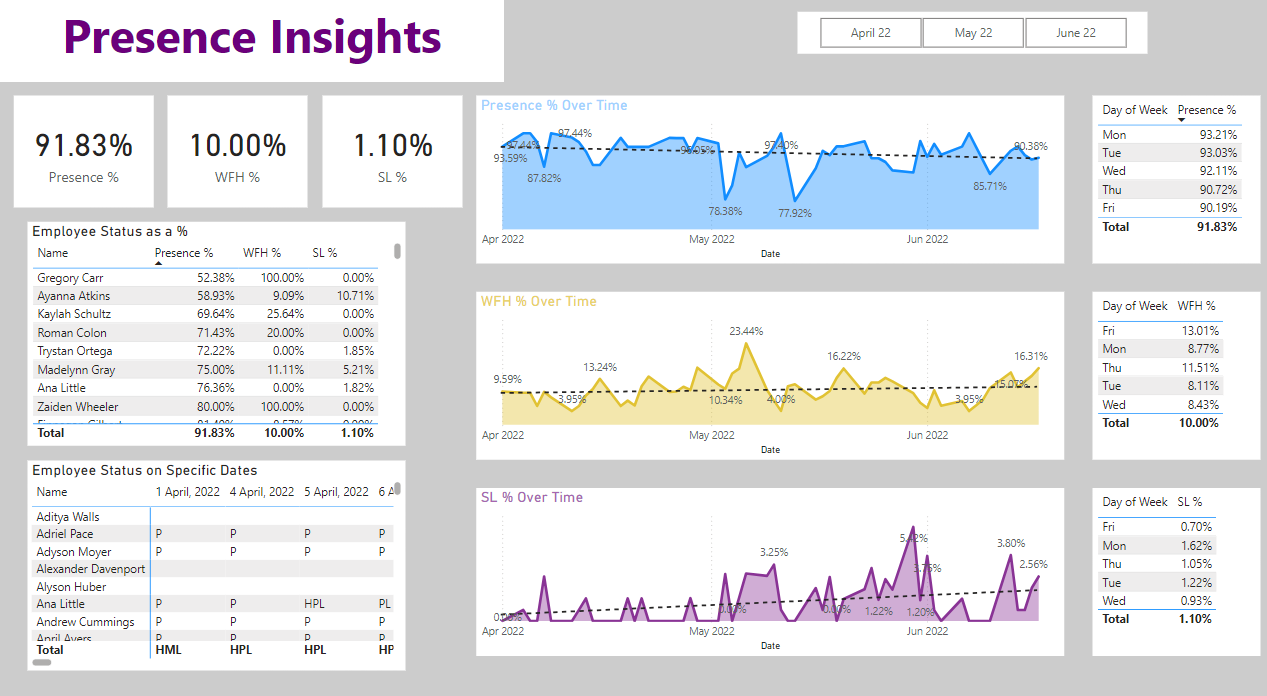

Layout of this report page (visuals, bound fields, positions):
{"tool":"powerbi","page":{"name":"Page 1","canvas":[1280,720],"ordinal":0},"visuals":[{"type":"card","fields":{"Values":["Measure Table.SL %"]},"box":[320,96,160,128],"z":0},{"type":"card","fields":{"Values":["Measure Table.Presence %"]},"box":[0,96,160,128],"z":1000},{"type":"card","fields":{"Values":["Measure Table.WFH %"]},"box":[160,96,160,128],"z":2000},{"type":"slicer","fields":{"Values":["Final Data.Month"]},"box":[784,0,384,64],"z":3000},{"type":"actionButton","box":[0,0,100,40],"z":4000},{"type":"textbox","box":[0,0,528,96],"z":5000},{"type":"tableEx","title":"Employee Status as a %","fields":{"Values":["Final Data.Name","Measure Table.Presence %","Measure Table.WFH %","Measure Table.SL %"]},"box":[32,240,384,208],"z":6000},{"type":"pivotTable","title":"Employee Status on Specific Dates","fields":{"Rows":["Final Data.Name"],"Values":["Min(Final Data.Value)"],"Columns":["Final Data.Date"]},"box":[32,480,384,208],"z":7000},{"type":"areaChart","title":"Presence % Over Time","fields":{"Y":["Measure Table.Presence %"],"Category":["Final Data.Date"]},"box":[480,96,608,176],"z":8000},{"type":"areaChart","title":"WFH % Over Time","fields":{"Category":["Final Data.Date"],"Y":["Measure Table.WFH %"]},"box":[480,304,608,176],"z":9000},{"type":"areaChart","title":"SL % Over Time","fields":{"Category":["Final Data.Date"],"Y":["Measure Table.SL %"]},"box":[480,512,608,176],"z":10000},{"type":"tableEx","fields":{"Values":["Final Data.Day of Week","Measure Table.Presence %"]},"box":[1088,96,192,176],"z":11000},{"type":"tableEx","fields":{"Values":["Final Data.Day of Week","Measure Table.WFH %"]},"box":[1104,304,160,192],"z":12000},{"type":"tableEx","fields":{"Values":["Final Data.Day of Week","Measure Table.SL %"]},"box":[1104,512,176,176],"z":13000}]}

Visuals, with their boxes in screenshot pixels (x1, y1, x2, y2), scaled from the page's 1280x720 canvas onto the 1267x696 screenshot:
card - Measure Table.SL %: [x1=317, y1=93, x2=475, y2=217]
card - Measure Table.Presence %: [x1=0, y1=93, x2=158, y2=217]
card - Measure Table.WFH %: [x1=158, y1=93, x2=317, y2=217]
slicer - Final Data.Month: [x1=776, y1=0, x2=1156, y2=62]
actionButton: [x1=0, y1=0, x2=99, y2=39]
textbox: [x1=0, y1=0, x2=523, y2=93]
"Employee Status as a %" tableEx: [x1=32, y1=232, x2=412, y2=433]
"Employee Status on Specific Dates" pivotTable: [x1=32, y1=464, x2=412, y2=665]
"Presence % Over Time" areaChart: [x1=475, y1=93, x2=1077, y2=263]
"WFH % Over Time" areaChart: [x1=475, y1=294, x2=1077, y2=464]
"SL % Over Time" areaChart: [x1=475, y1=495, x2=1077, y2=665]
tableEx - Final Data.Day of Week x Measure Table.Presence %: [x1=1077, y1=93, x2=1266, y2=263]
tableEx - Final Data.Day of Week x Measure Table.WFH %: [x1=1093, y1=294, x2=1251, y2=479]
tableEx - Final Data.Day of Week x Measure Table.SL %: [x1=1093, y1=495, x2=1266, y2=665]
